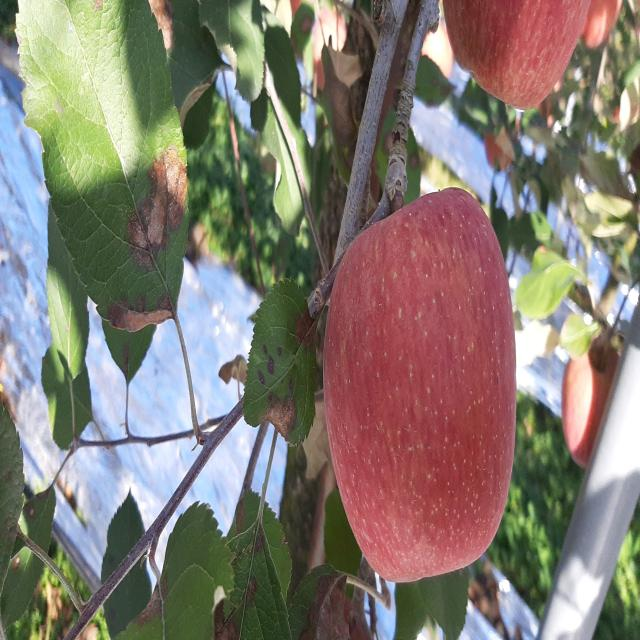fresh: (319, 177, 522, 595)
